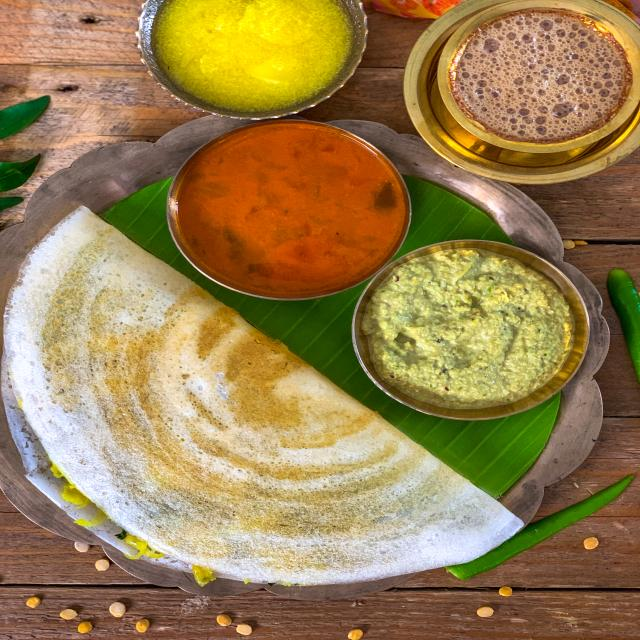plain dosa: (9, 221, 531, 585)
